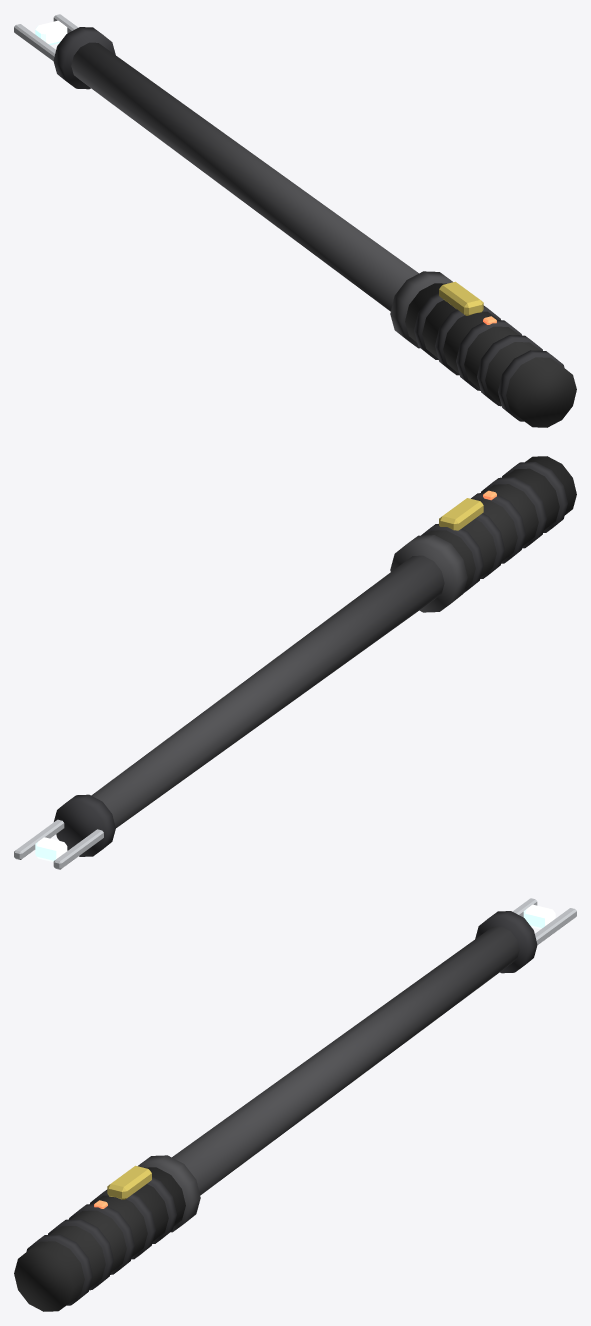
Rendered from stun_baton.glb.
3 renders of one model, top to bottom at view 1: azimuth 30°, elevation 25°; view 2: azimuth 150°, elevation 25°; view 3: azimuth 330°, elevation 25°, orthographic.
Parts seen in each view (by area): view 1: Stun_baton; view 2: Stun_baton; view 3: Stun_baton.
Part boxes in pixels (left/top/right/bottom): Stun_baton: left=14, top=14, right=576, bottom=427; Stun_baton: left=14, top=456, right=576, bottom=869; Stun_baton: left=14, top=898, right=576, bottom=1311.
Size of the model in its own units: 0.04 by 0.044 by 0.535.
